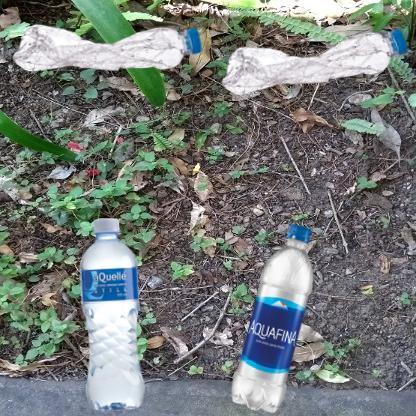botella: (10, 213, 213, 416), (213, 213, 361, 416), (213, 10, 416, 112), (10, 10, 206, 76)
